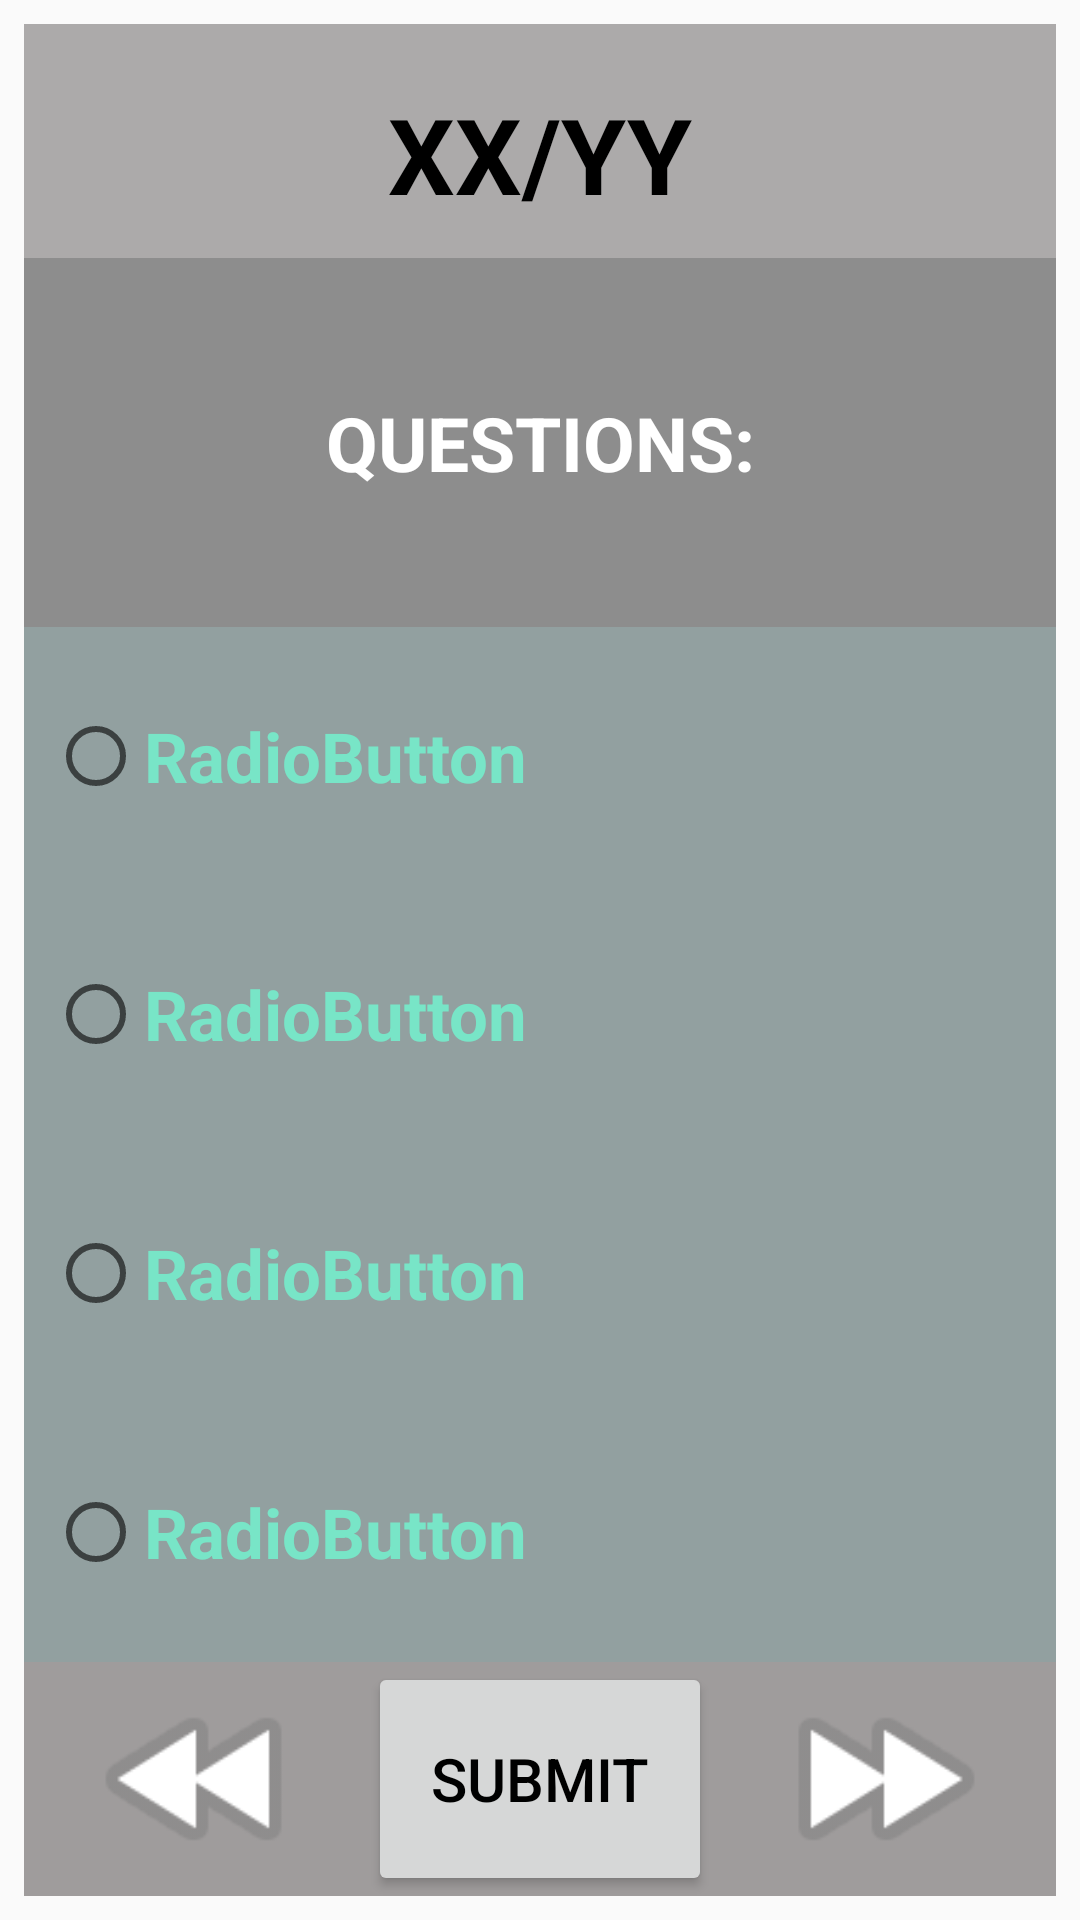

Icon click points for this 1080 x 1920 phone screenshot, format point (x, y):
rew: point (196, 1779)
